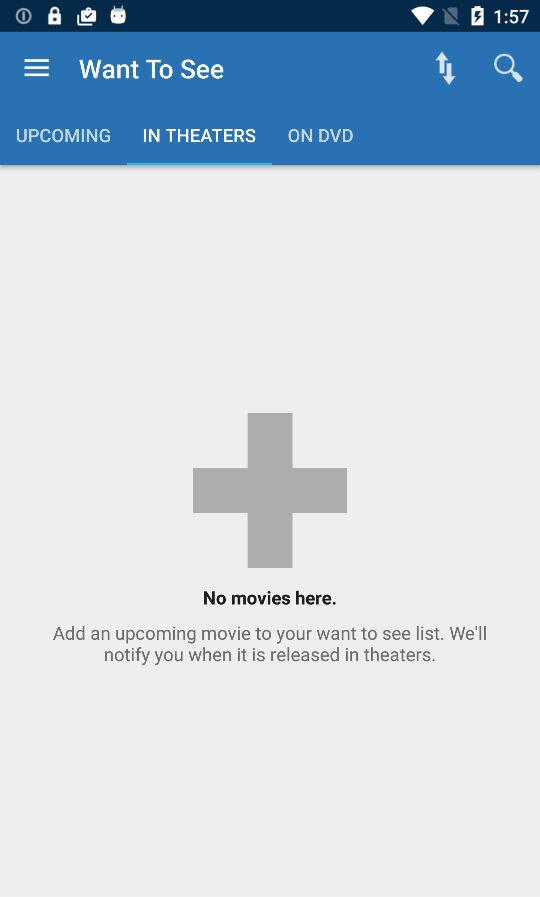Icon: (192, 413, 348, 569), (492, 54, 524, 85), (435, 51, 457, 87), (24, 58, 51, 78)
Text: (53, 626, 487, 666), (80, 60, 225, 81), (204, 590, 337, 606), (143, 128, 256, 144), (17, 128, 111, 144), (288, 129, 354, 144)
UpperTaskBar: (1, 1, 540, 33)
